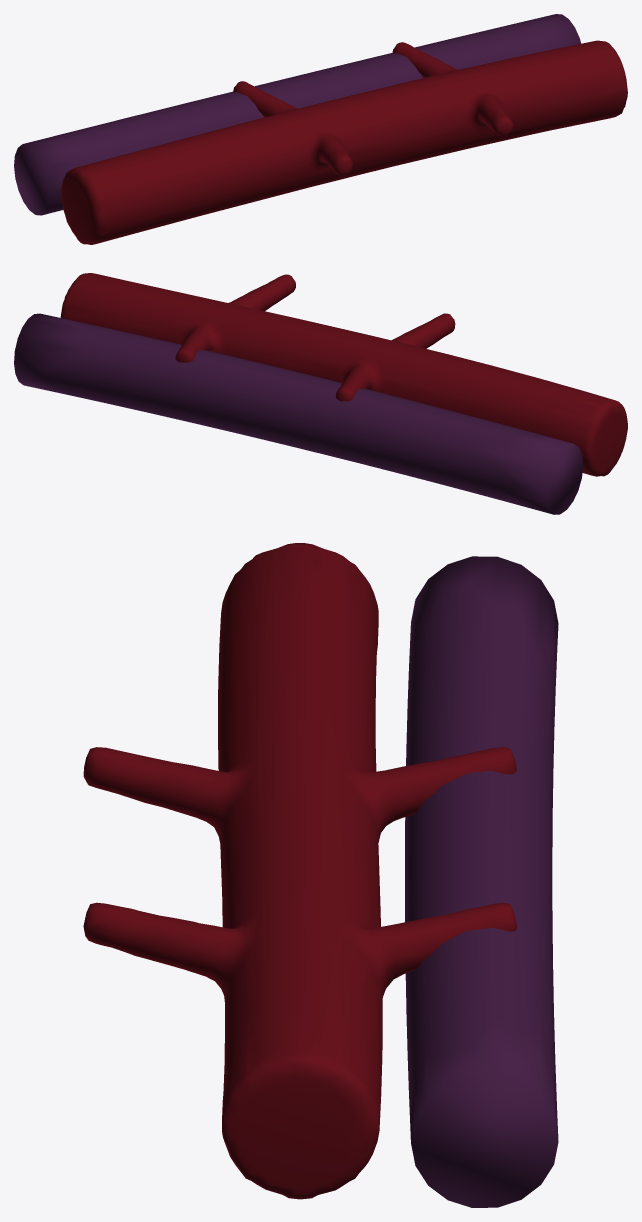
File: aorta.glb
3 views of the same model, one above another, from view 1: azimuth 30°, elevation 25°; view 2: azimuth 150°, elevation 25°; view 3: azimuth 270°, elevation 25° (orthographic). The views are drawn at different scales.
Visible parts, largest first — view 1: Aorta, Vein; view 2: Vein, Aorta; view 3: Aorta, Vein.
Boxes of the visible parts, x1,y1,x2,y2 form: Aorta: (61,40,627,244); Vein: (14,14,580,215); Vein: (14,313,583,514); Aorta: (60,273,627,476); Aorta: (83,543,516,1199); Vein: (405,556,558,1207).
Bounding box in the file's own units: 2.01 × 0.2855 × 0.7727.
